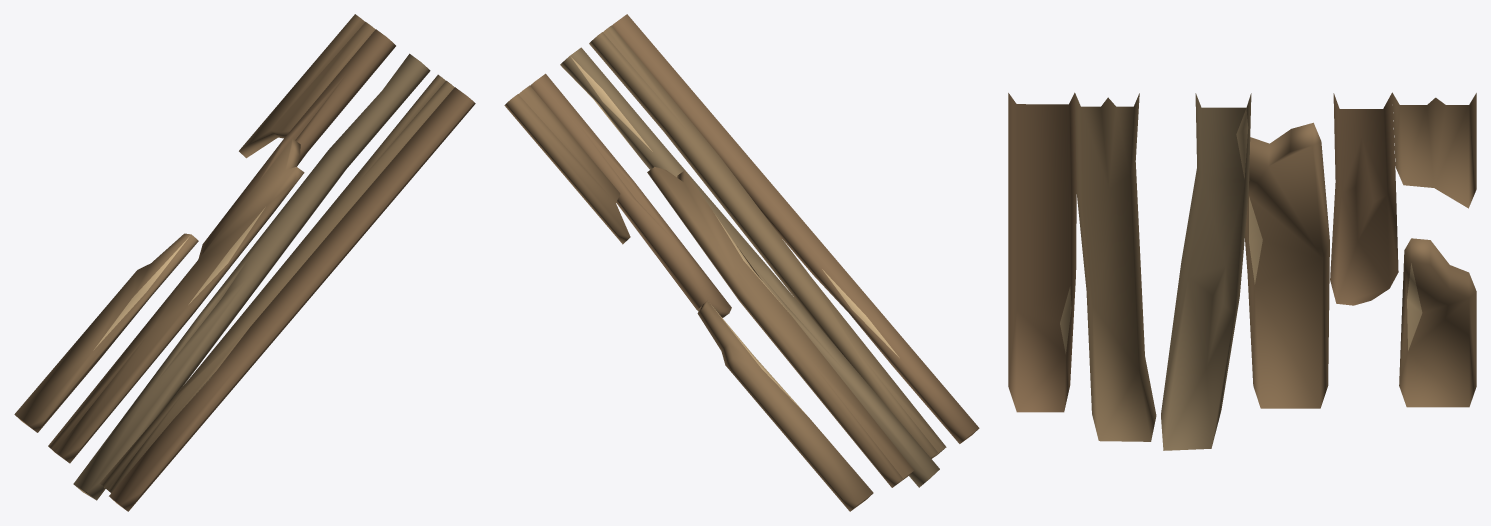
Rendered from rpgpp_av_roof_02_9x4x3_half_a.gltf.
The picture shows the model from 3 angles, left to right: view 1: azimuth 30°, elevation 25°; view 2: azimuth 150°, elevation 25°; view 3: azimuth 270°, elevation 25°; orthographic projection. The views are drawn at different scales.
Visible parts, largest first — view 1: rpgpp_av_roof_02_9x4x3_half_a; view 2: rpgpp_av_roof_02_9x4x3_half_a; view 3: rpgpp_av_roof_02_9x4x3_half_a.
Part boxes in pixels (x1,y1,x2,y2): rpgpp_av_roof_02_9x4x3_half_a: [14, 14, 475, 511]; rpgpp_av_roof_02_9x4x3_half_a: [504, 14, 979, 511]; rpgpp_av_roof_02_9x4x3_half_a: [1008, 92, 1476, 450].
Bounding box in the file's own units: 0.0527 × 0.0495 × 0.03.
Materials: 1 (1 with a texture image).
